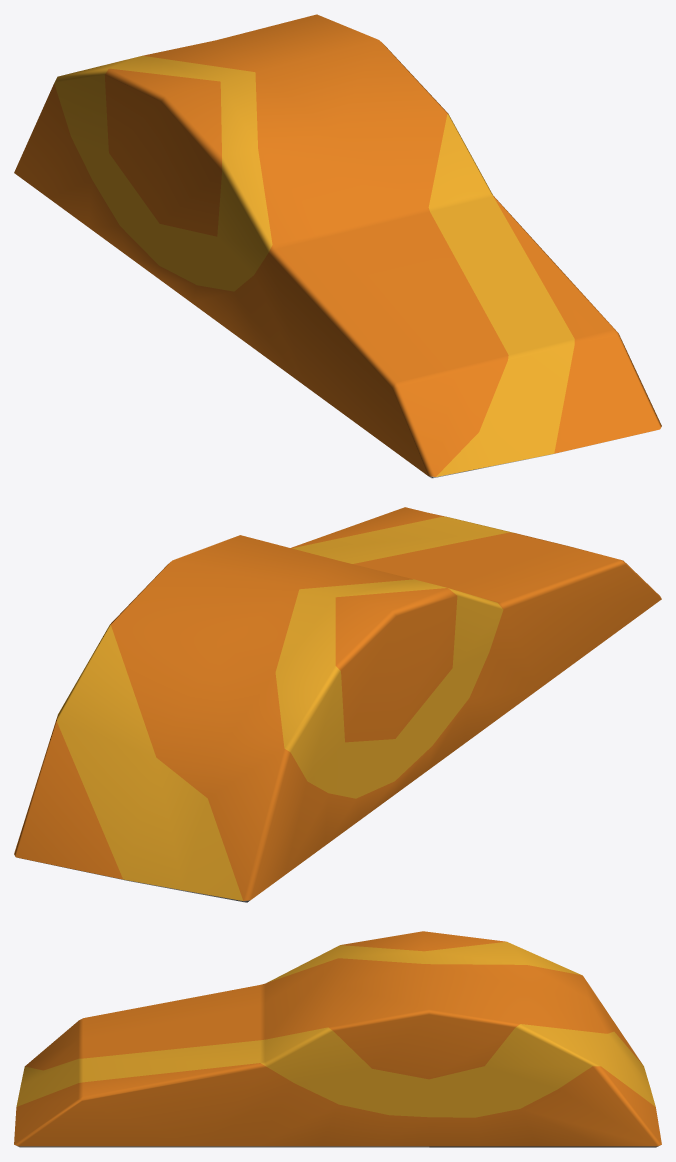
File: Salmon_1_Fillet_3.fbx
3 renders of one model, top to bottom at view 1: azimuth 30°, elevation 25°; view 2: azimuth 150°, elevation 25°; view 3: azimuth 270°, elevation 25°, orthographic. The views are drawn at different scales.
Visible parts, largest first — view 1: Salmon_1_Fillet_3; view 2: Salmon_1_Fillet_3; view 3: Salmon_1_Fillet_3.
Boxes of the visible parts, <box> form: Salmon_1_Fillet_3: <box>14,14,661,478</box>; Salmon_1_Fillet_3: <box>14,507,661,902</box>; Salmon_1_Fillet_3: <box>14,931,661,1147</box>.
Size of the model in its own units: 12.98 by 10.27 by 43.58.
